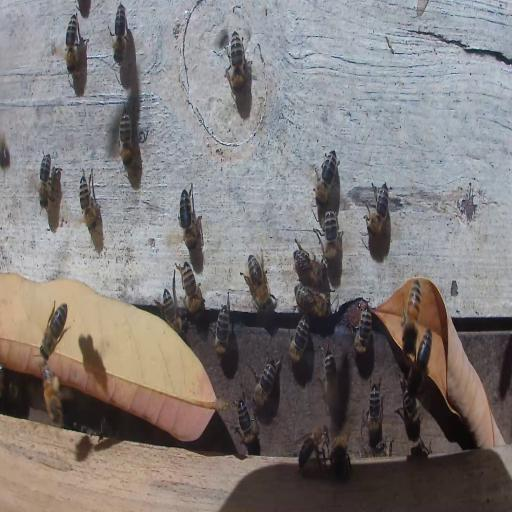bee: (296, 423, 334, 476), (243, 251, 273, 311), (40, 358, 64, 428), (41, 301, 70, 358), (409, 326, 434, 392), (401, 278, 422, 354), (364, 180, 391, 238), (313, 149, 339, 206), (78, 166, 99, 236), (179, 184, 200, 251), (294, 284, 332, 321), (286, 310, 310, 368), (399, 376, 422, 434), (179, 260, 203, 315), (236, 396, 258, 453), (320, 209, 342, 266), (210, 295, 231, 354), (294, 240, 322, 284), (252, 361, 278, 408), (350, 303, 372, 357), (228, 31, 245, 93), (366, 381, 382, 445), (112, 3, 128, 65), (65, 12, 80, 74), (119, 108, 133, 172), (160, 289, 180, 333), (39, 150, 53, 211), (332, 438, 352, 479), (324, 352, 336, 404), (372, 440, 393, 456), (1, 140, 10, 167)
